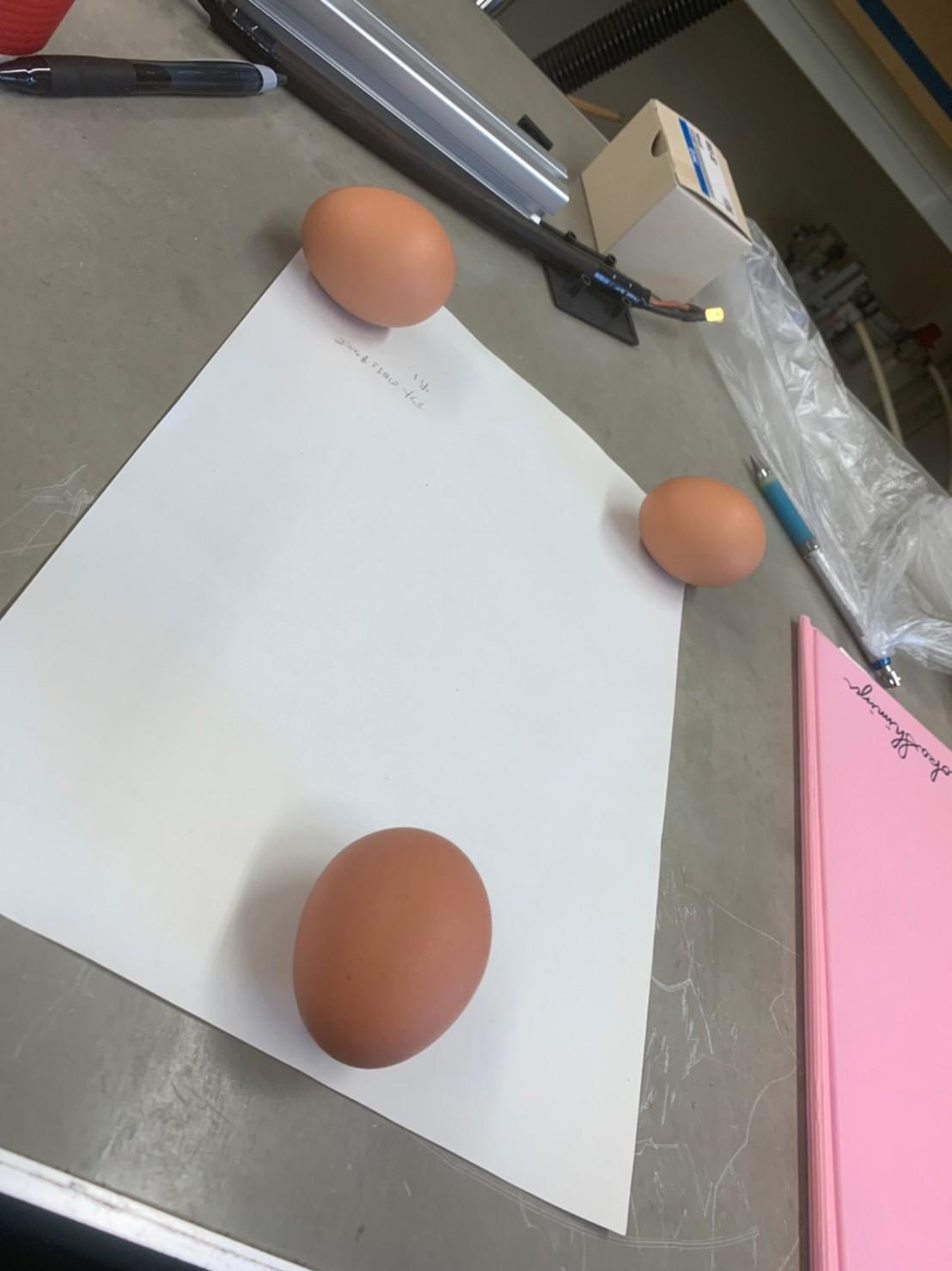egg: (288, 817, 498, 1074), (296, 173, 462, 332), (638, 471, 772, 595)
